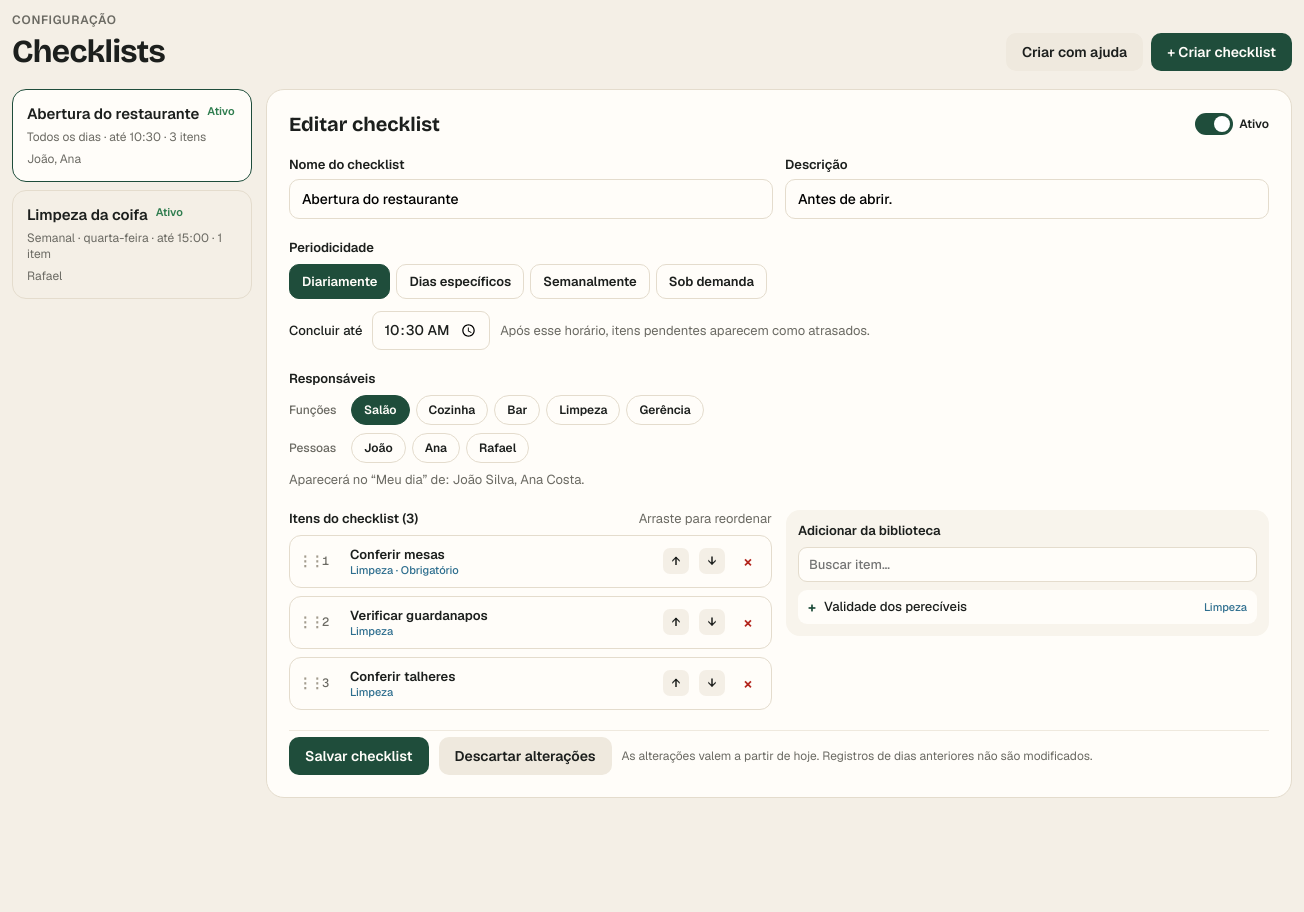
Scenario: US14 — checklists (web) › reordena com ↑ ↓, remove com × e adiciona da biblioteca; salva com PUT (sucesso)
Expected: the heading "Editar checklist" is shown, [289,112,440,136]
Click the button named "Subir": [676, 622] box [663,609,689,635]
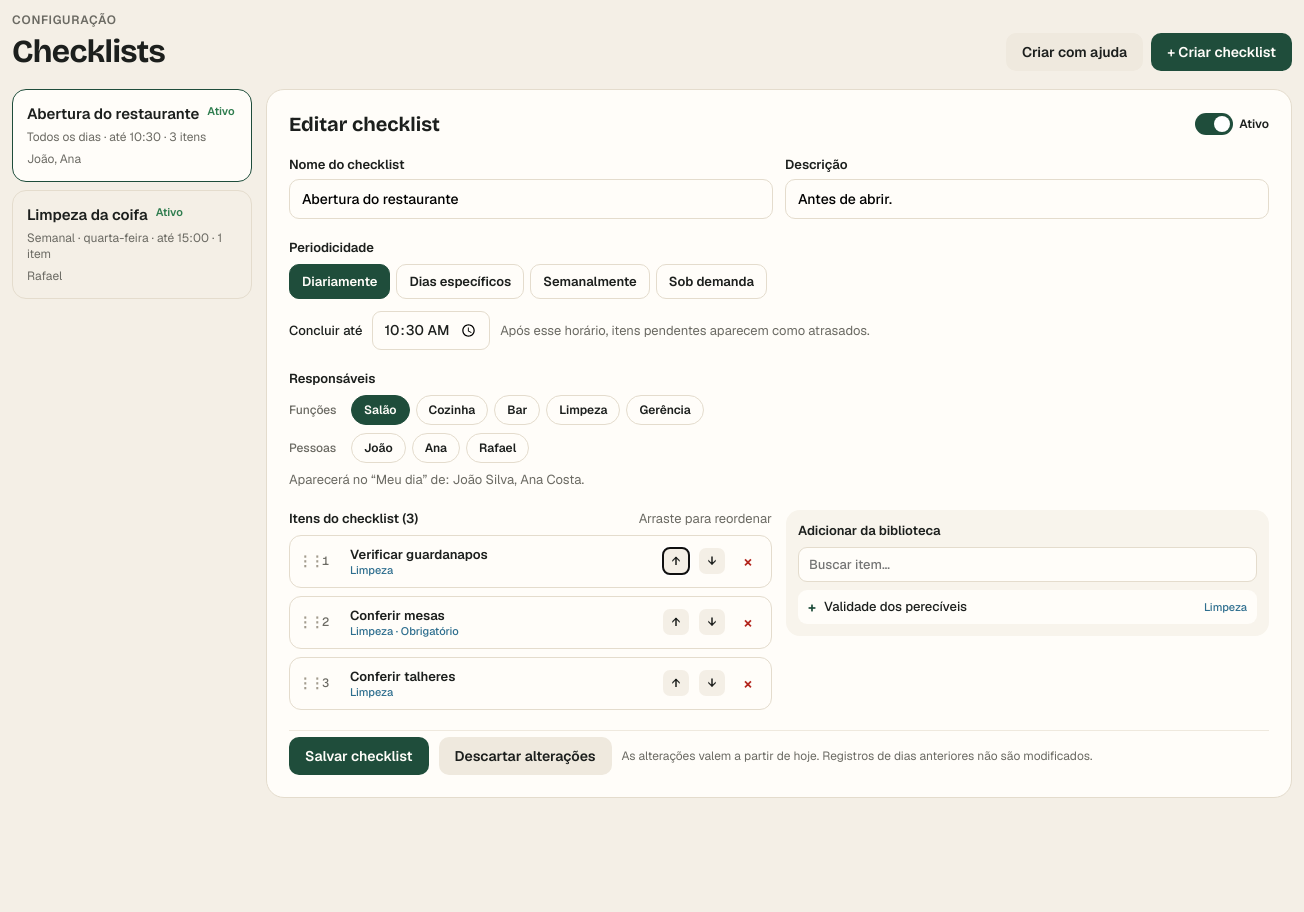
Click the button named "Remover": [748, 683] box [735,670,761,696]
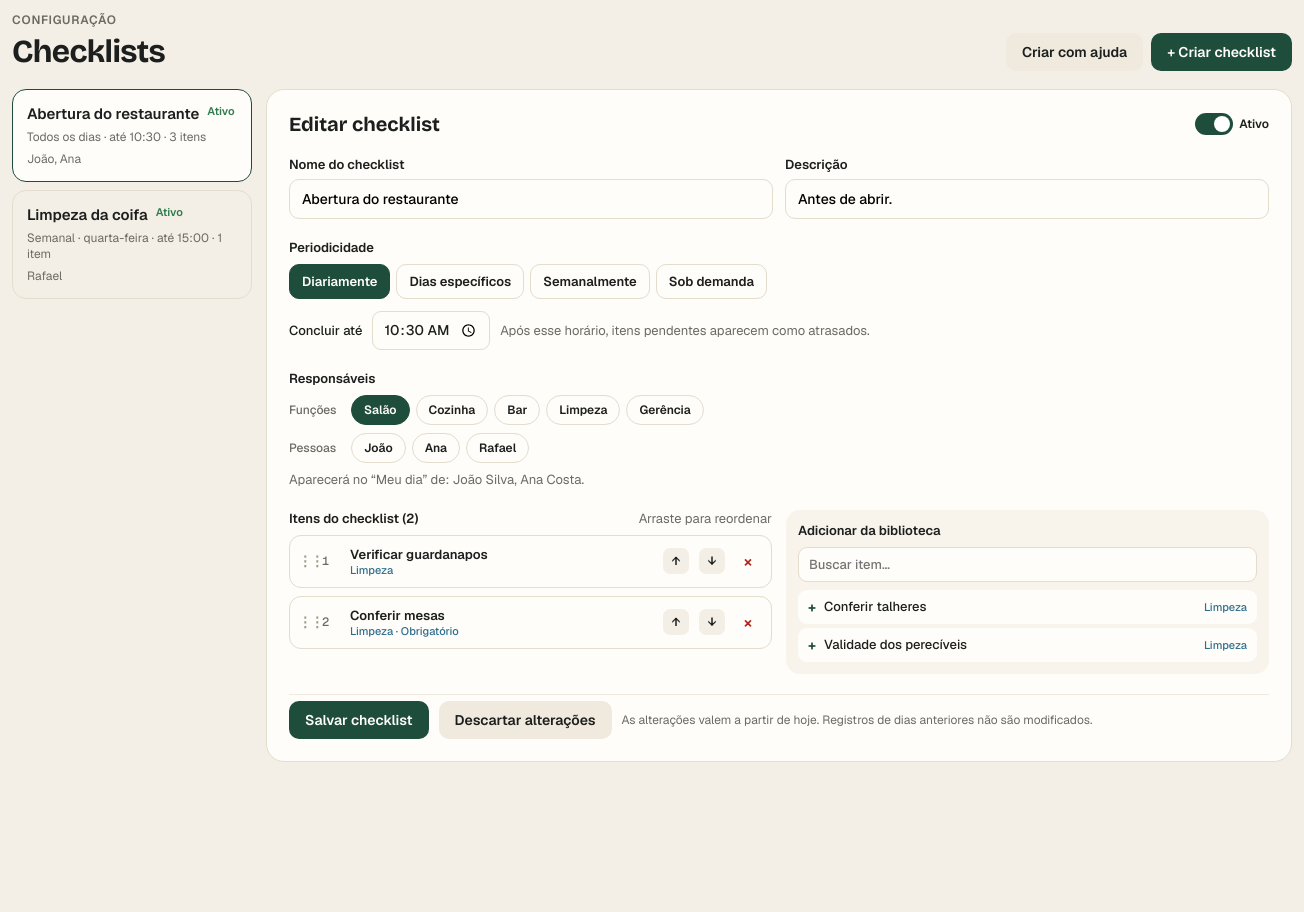
In the field with placeholder "Buscar item…": [1028, 564] box [798,546,1257,582], type "valid"
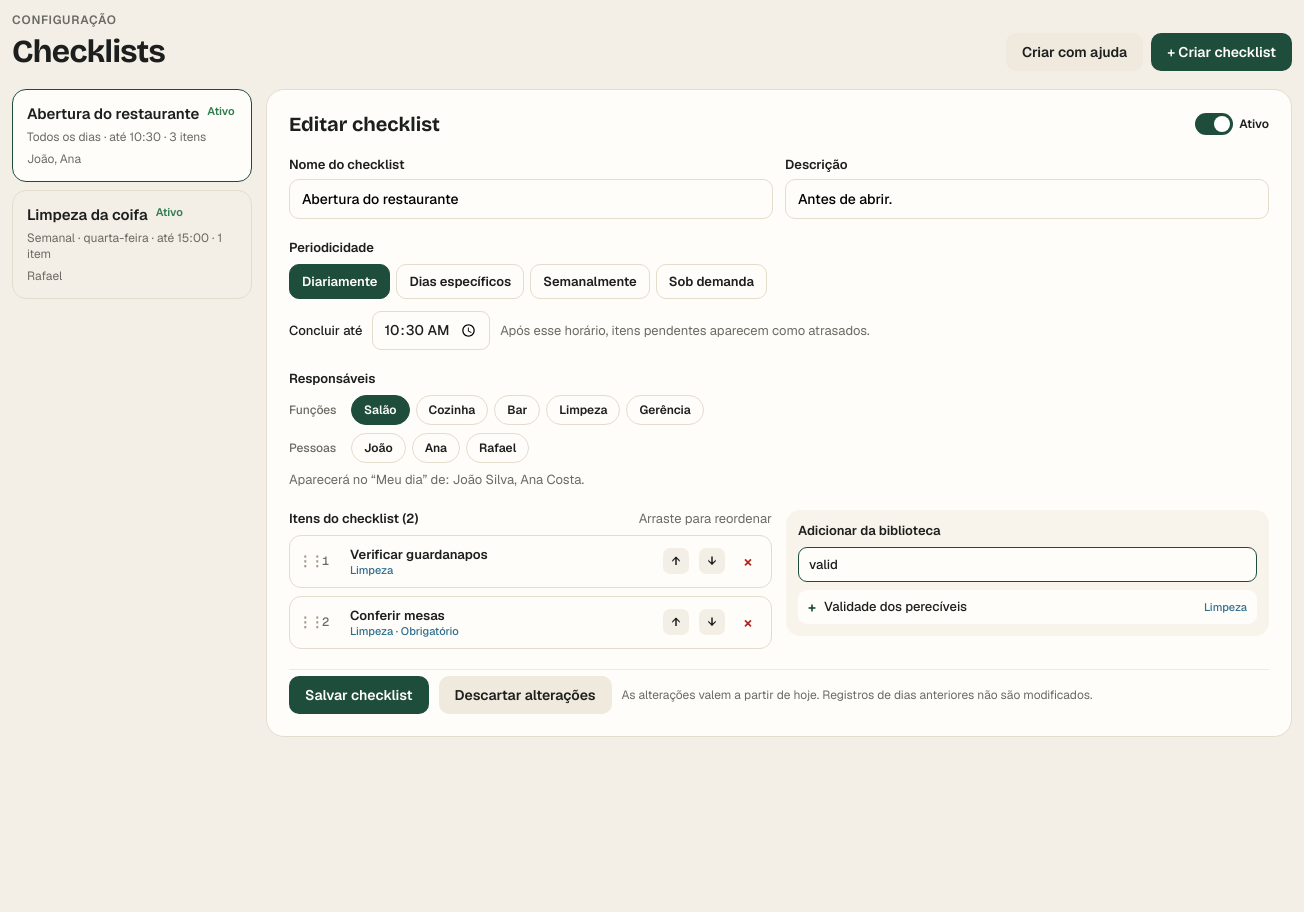
Click the button "+ Validade dos perecíveis Limpeza": [896, 607] box [798,590,1257,624]
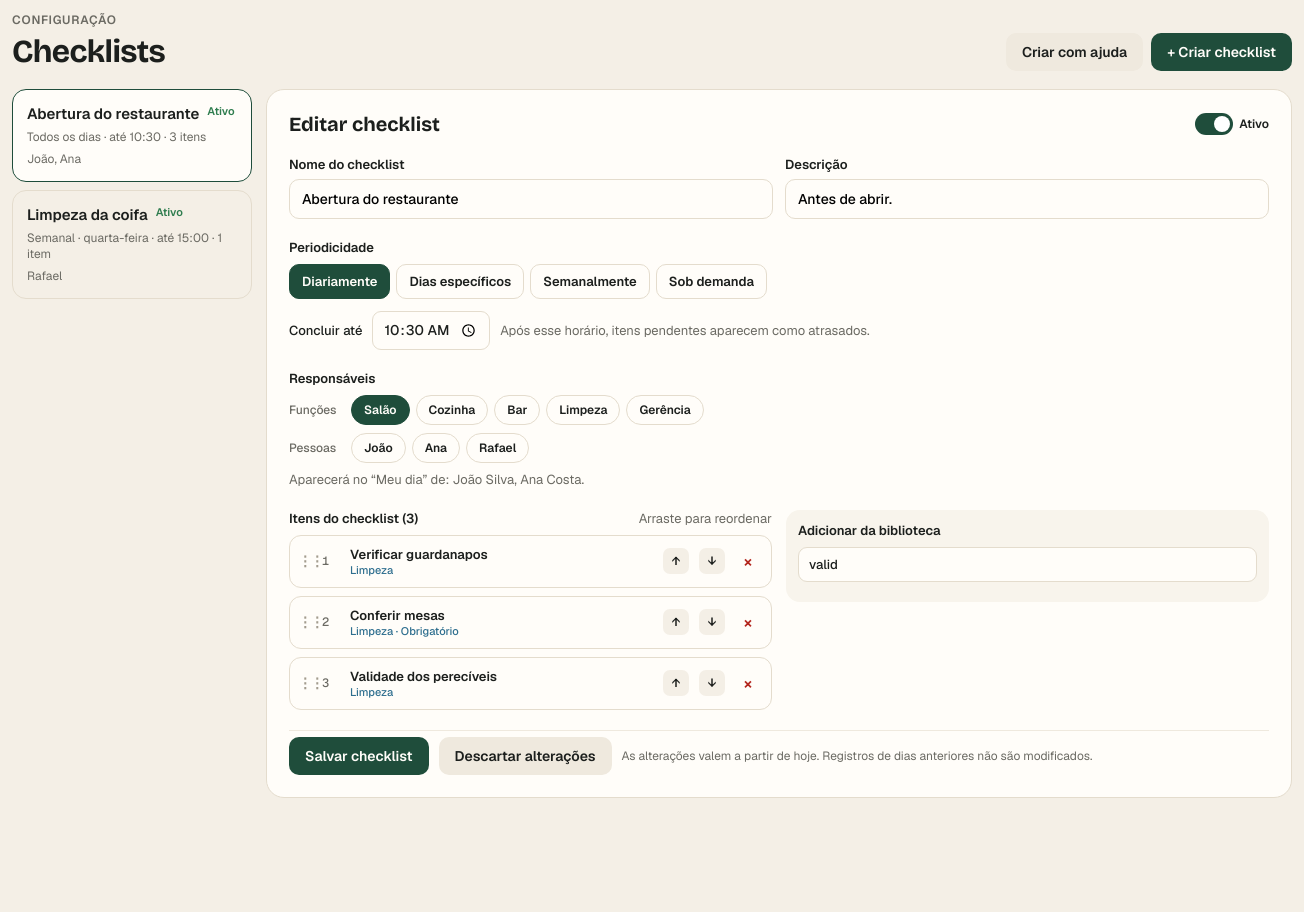
Click the button "Salvar checklist": [359, 756] box [289,736,429,774]
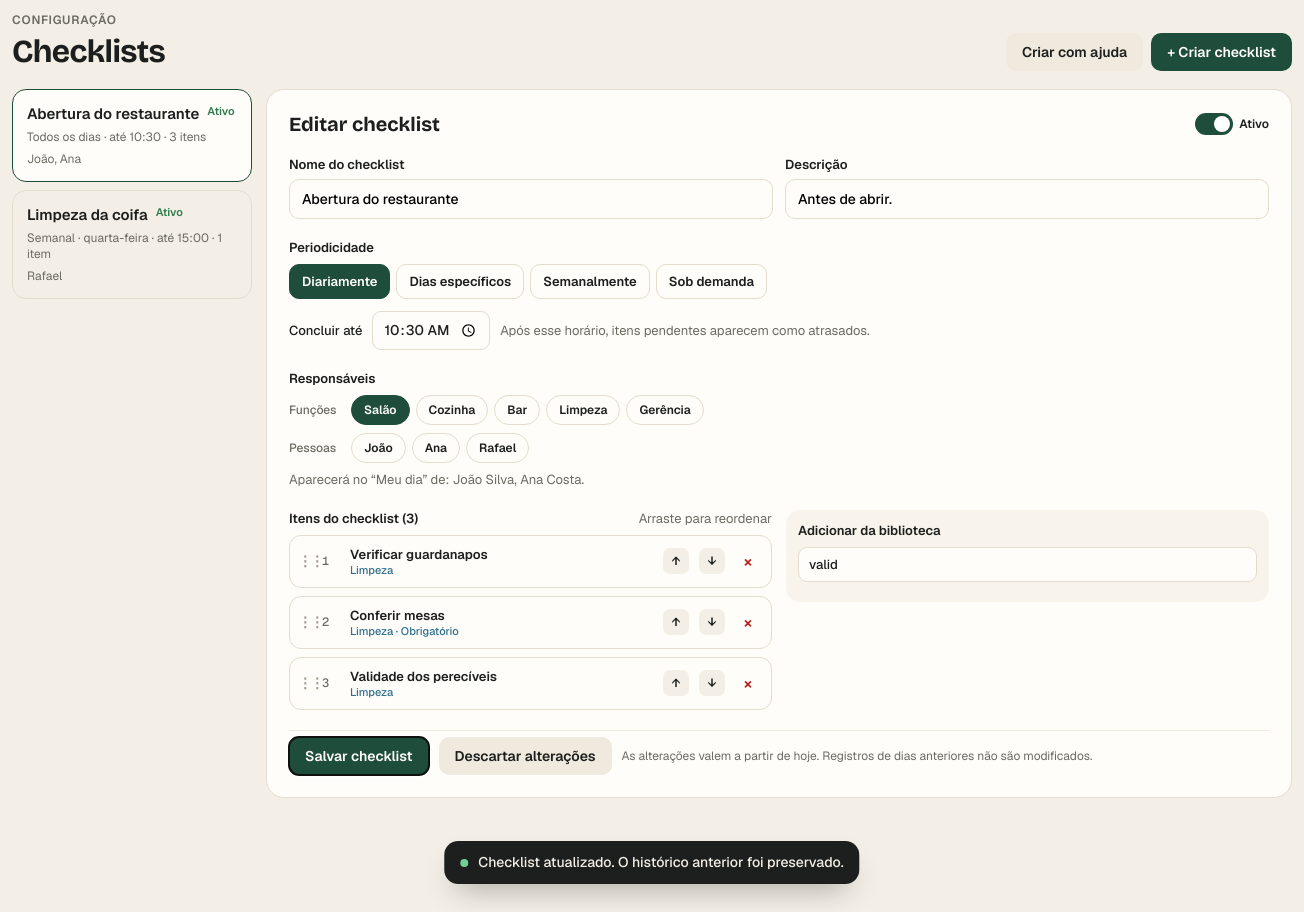
Result: the message reads "Checklist atualizado. O histórico anterior foi preservado." at [478,853,844,871]
